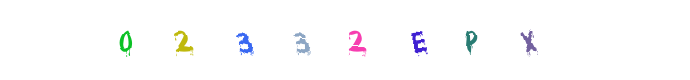2: (143, 0, 223, 80), (305, 0, 385, 80)
3: (285, 0, 365, 80), (293, 0, 373, 80)
E: (317, 0, 397, 80)
O: (85, 0, 165, 80)
P: (398, 0, 478, 80)
X: (481, 0, 561, 80)
